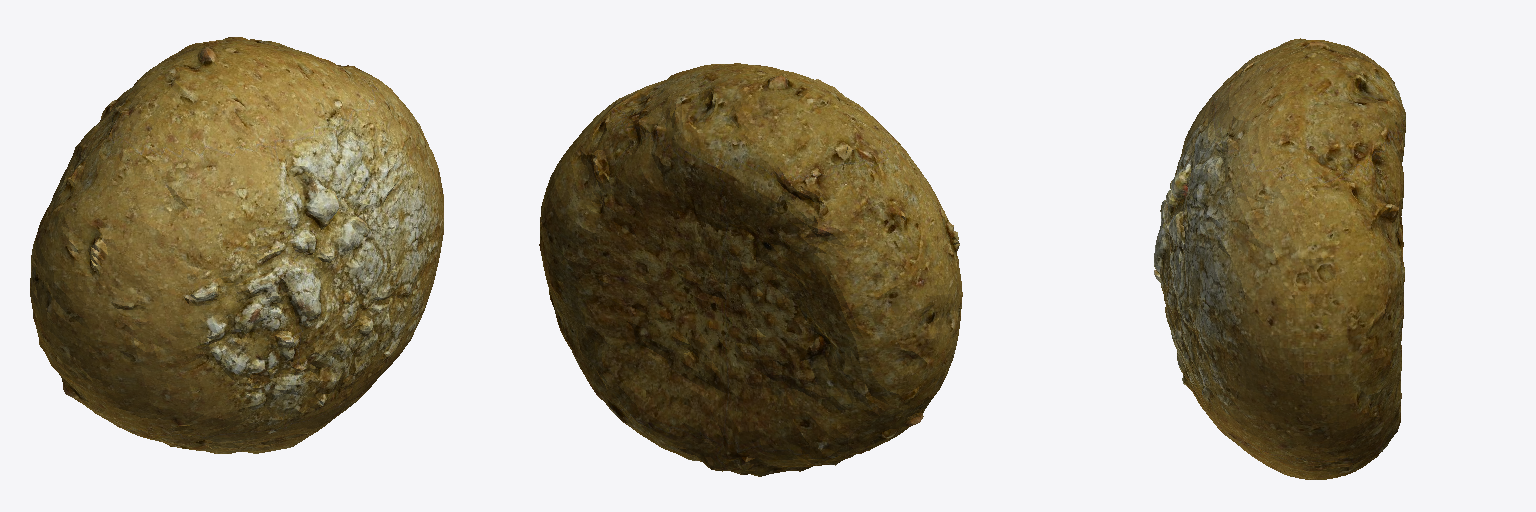
The picture shows the model from 3 angles: view 1: azimuth 30°, elevation 25°; view 2: azimuth 150°, elevation 25°; view 3: azimuth 270°, elevation 25°; orthographic projection.
Bounding box in the file's own units: 1 × 0.9683 × 0.555.
1 materials, 1 textured.